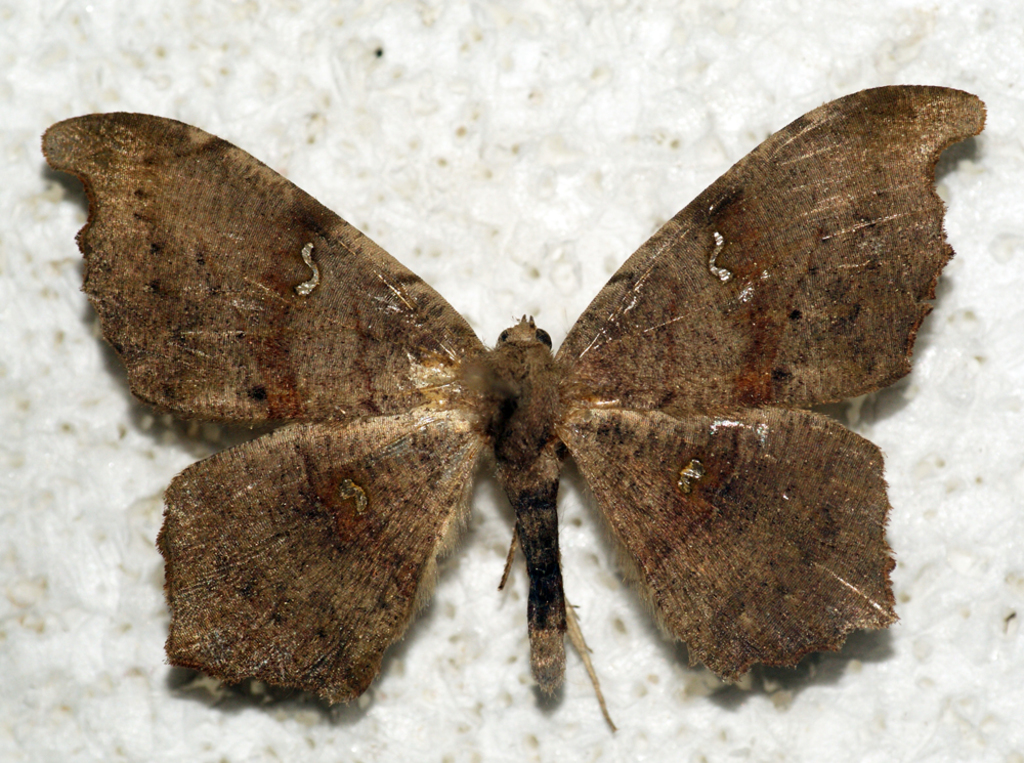Butterfly: (32, 95, 999, 733)
